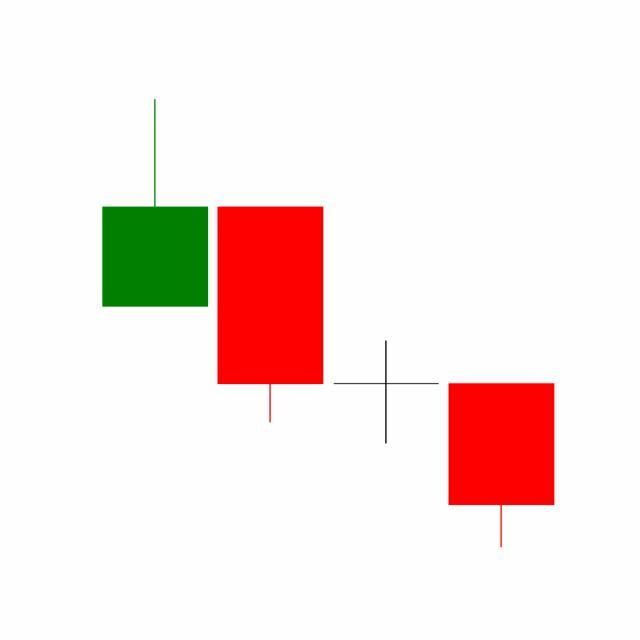Spinning Top: (329, 339, 445, 446)
